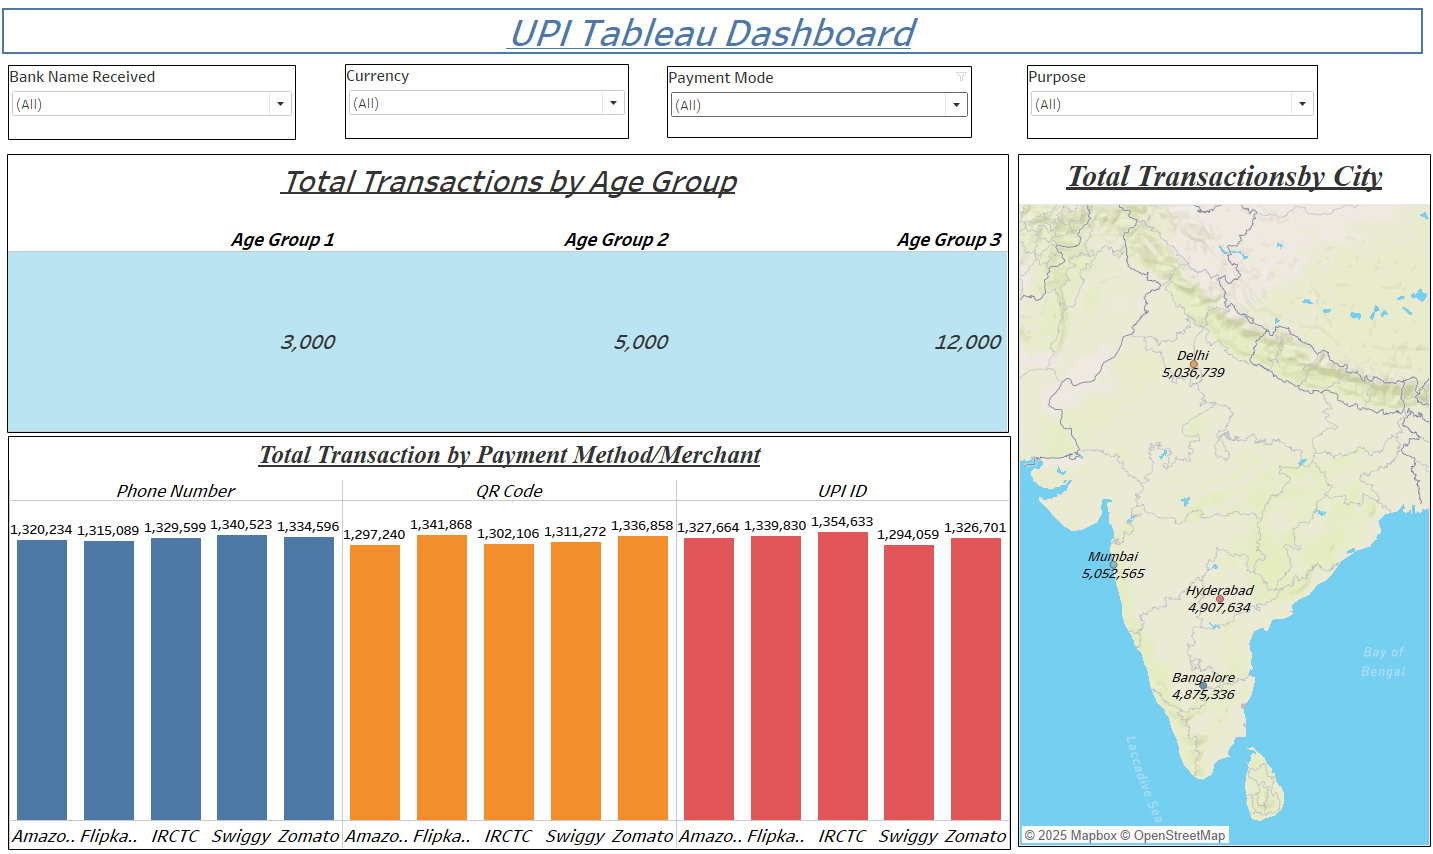

Layout of this report page (visuals, bound fields, positions):
{"tool":"tableau","page":{"name":"UPI Dashboard","canvas":[1000,1000],"units":"permille","ordinal":0},"visuals":[{"type":"text","box":[11.2,11.5,979.7,53.8]},{"type":"filter","title":"Column Chart","param":"[federated.1r8732l179v0651dhwknq0i1f1e0].[none:Currency:nk]","box":[247.6,76.8,195.8,87.1]},{"type":"filter","title":"Column Chart","param":"[federated.1r8732l179v0651dhwknq0i1f1e0].[none:BankNameReceived:nk]","box":[15.4,78.1,198.6,87.1]},{"type":"filter","title":"Column Chart","param":"[federated.1r8732l179v0651dhwknq0i1f1e0].[none:Purpose:nk]","box":[718.2,78.1,200.7,85.8]},{"type":"filter","title":"Column Chart","param":"[federated.1r8732l179v0651dhwknq0i1f1e0].[none:PaymentMode:nk]","box":[469.9,79.4,210.5,83.2]},{"type":"worksheet","title":"Card visual","mark":"Automatic","cols":["Calculation_1117174249300742144"],"box":[14.7,181.8,690.9,323.9]},{"type":"worksheet","title":"Map Visual","mark":"Multipolygon","box":[711.9,181.8,284.6,805.4]},{"type":"worksheet","title":"Column Chart","mark":"Automatic","rows":["Amount"],"cols":["PaymentMethod","MerchantName"],"box":[15.2,509.4,692,481.9]}]}

Visuals, with their boxes on the dashboard's canvas, which has no fixed pixel size, in thousandths of its width and height (x1, y1, x2, y2). These are canvas units, not pixel positions in the 1433x854 screenshot, which may show the page scaled, cropped or inside an application window:
text: {"x1": 11, "y1": 12, "x2": 991, "y2": 65}
"Column Chart" filter: {"x1": 248, "y1": 77, "x2": 443, "y2": 164}
"Column Chart" filter: {"x1": 15, "y1": 78, "x2": 214, "y2": 165}
"Column Chart" filter: {"x1": 718, "y1": 78, "x2": 919, "y2": 164}
"Column Chart" filter: {"x1": 470, "y1": 79, "x2": 680, "y2": 163}
"Card visual" worksheet: {"x1": 15, "y1": 182, "x2": 706, "y2": 506}
"Map Visual" worksheet (Multipolygon marks): {"x1": 712, "y1": 182, "x2": 996, "y2": 987}
"Column Chart" worksheet: {"x1": 15, "y1": 509, "x2": 707, "y2": 991}
